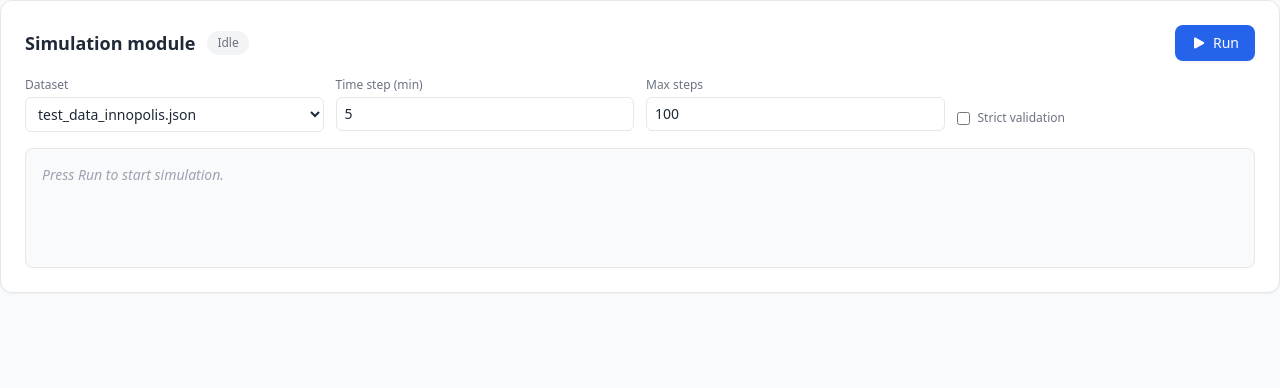
Test: displays error message when simulation fails
The width and height of the screenshot is (1280, 388).
Click the button "Run": (1215, 43) [1175,25,1255,61]
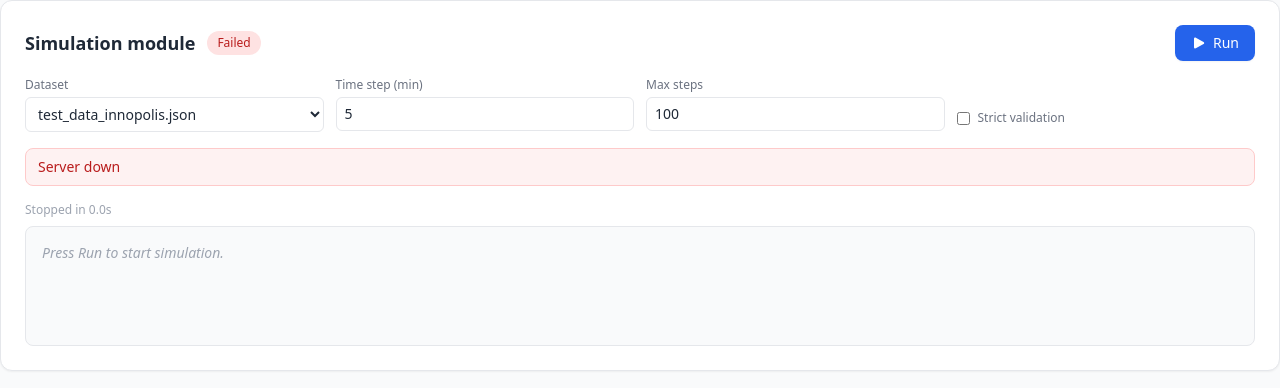
Result: the text "Server down" is shown at [25,148,1255,186]
